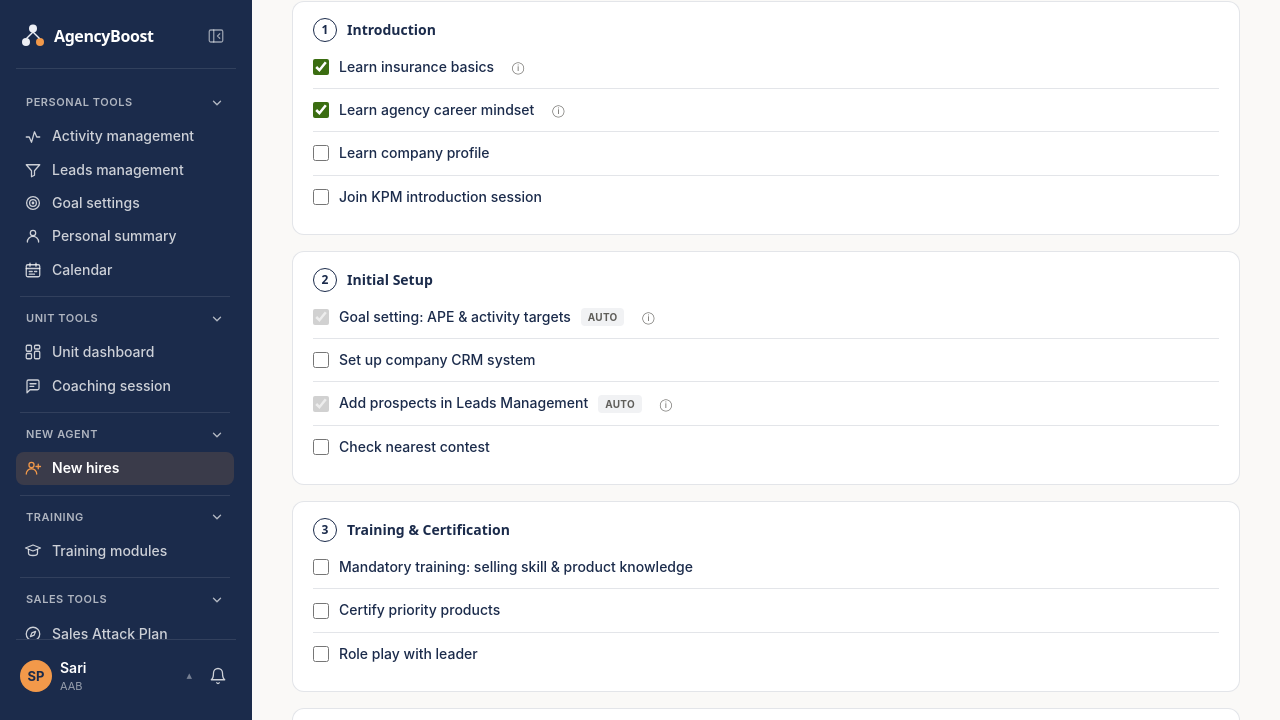
Scenario: /new-hires/[membershipId], one hire as a leader reads it (P13-T5, P13-T6) › P13-T4 AC-7 a refused tick puts the box back and says why
(page scrolled)
Click the checkbox labelled "Set up company CRM system". click: [321, 360]
box: [313,352,329,368]
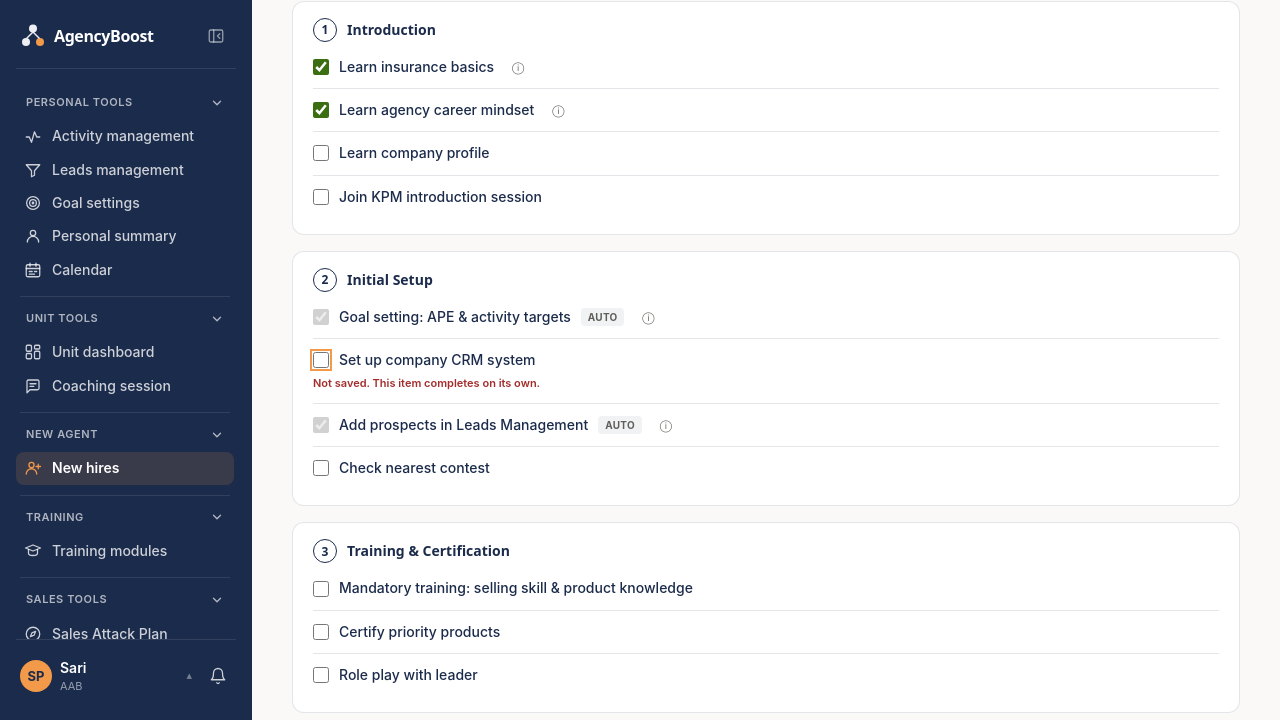
Check: the message reads "Not saved. This item completes on its own.", box [313,376,540,390]
